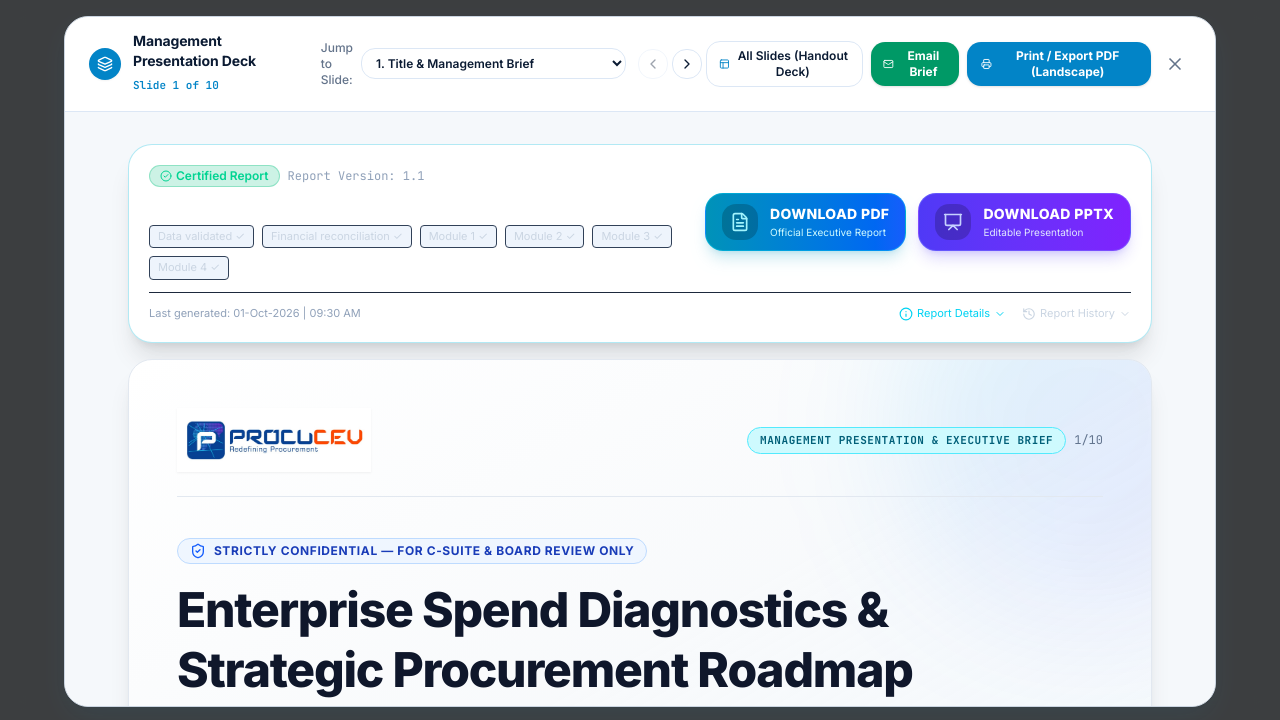
ExecutiveReportModal Component › handles jump to slide via select dropdown
Select "9. Actionable Savings Levers" in the dropdown. click: coordinates (494, 64)
box: [361,48,626,79]
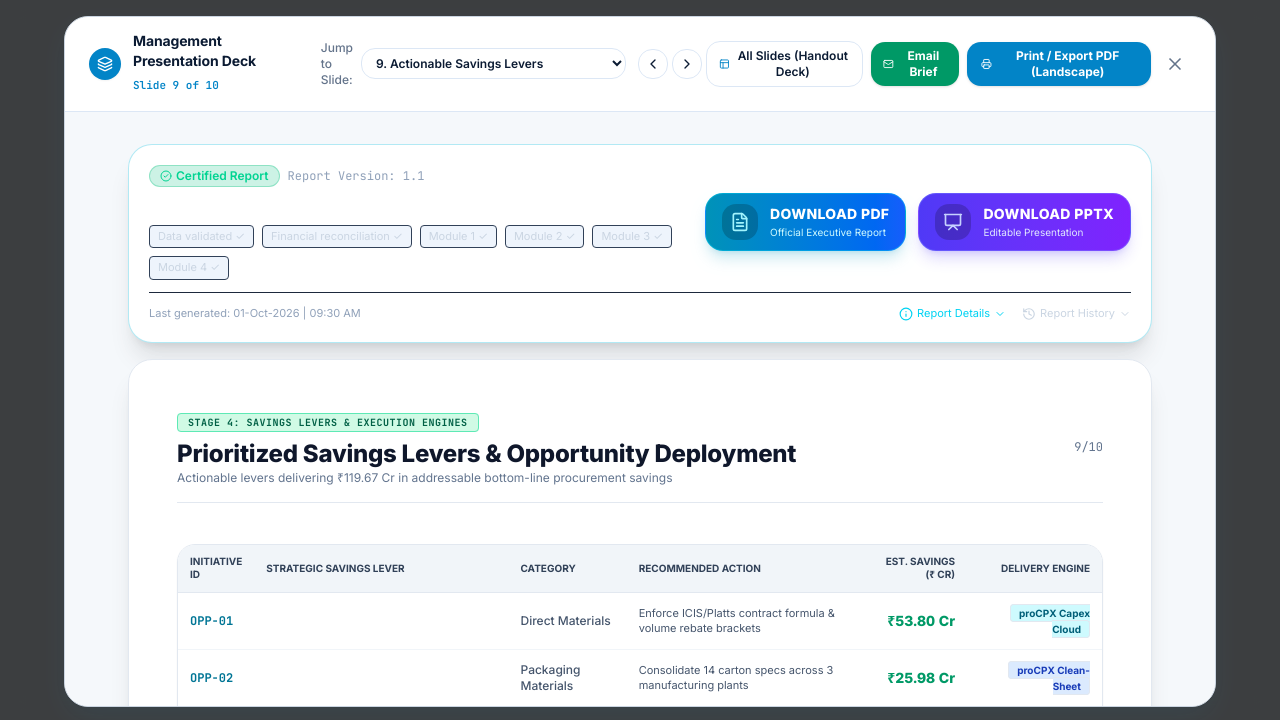
expect the heading "Prioritized Savings Levers & Opportunity Deployment" is shown: met, box [177,438,796,470]
